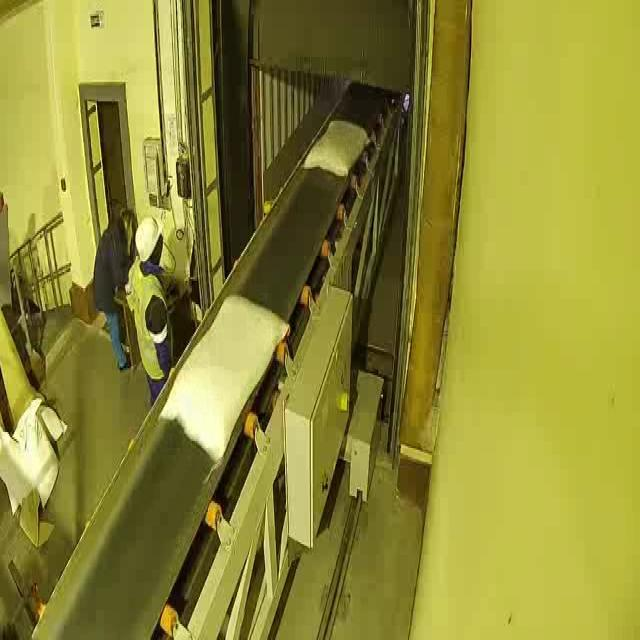bag: (158, 288, 289, 466), (301, 114, 369, 180)
